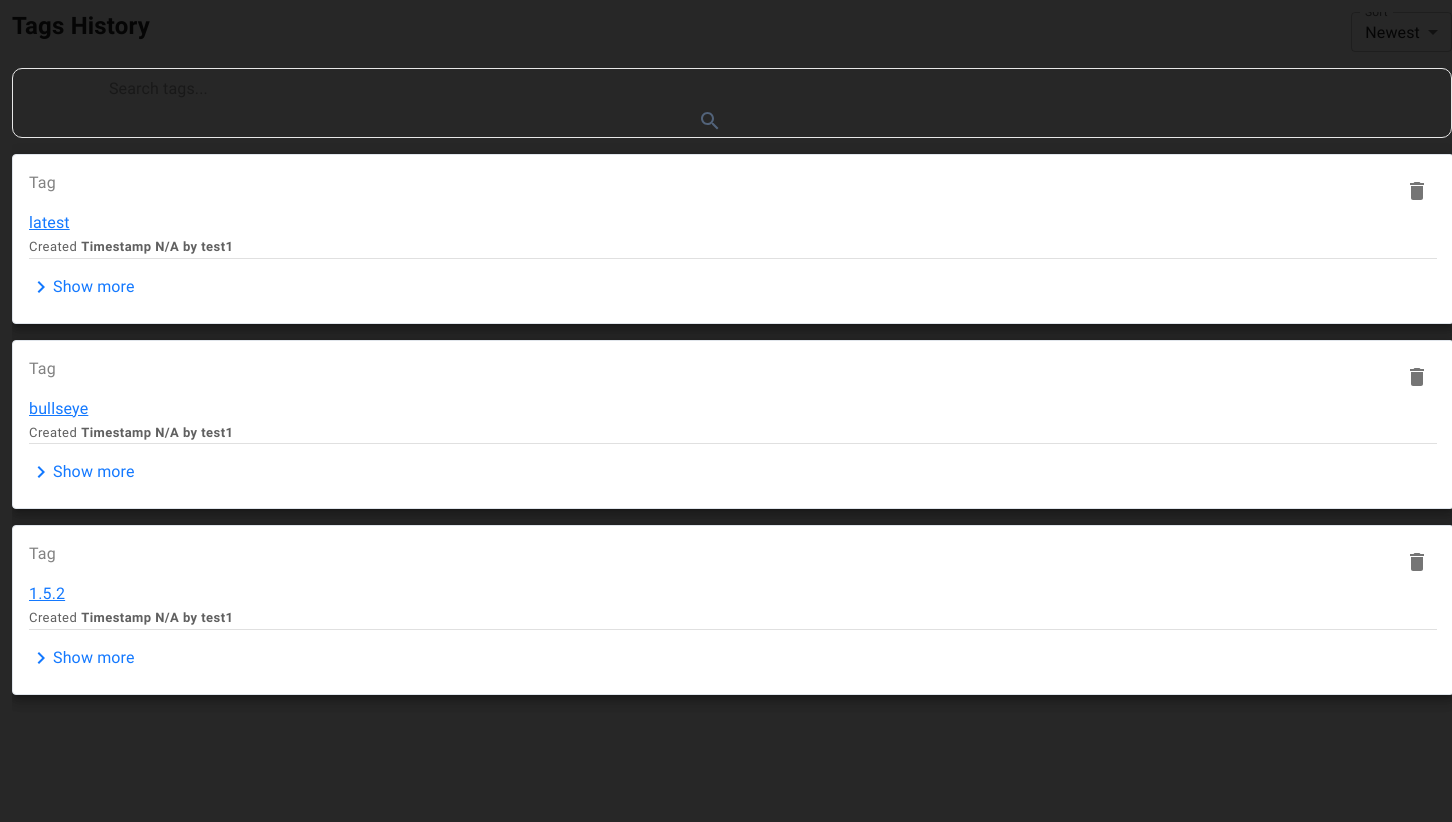
Test: Tags component › should open and close details dropdown for tags
Step 1. Click the text "Show more" below "latest" → x=94, y=286, box [53,277,135,296]
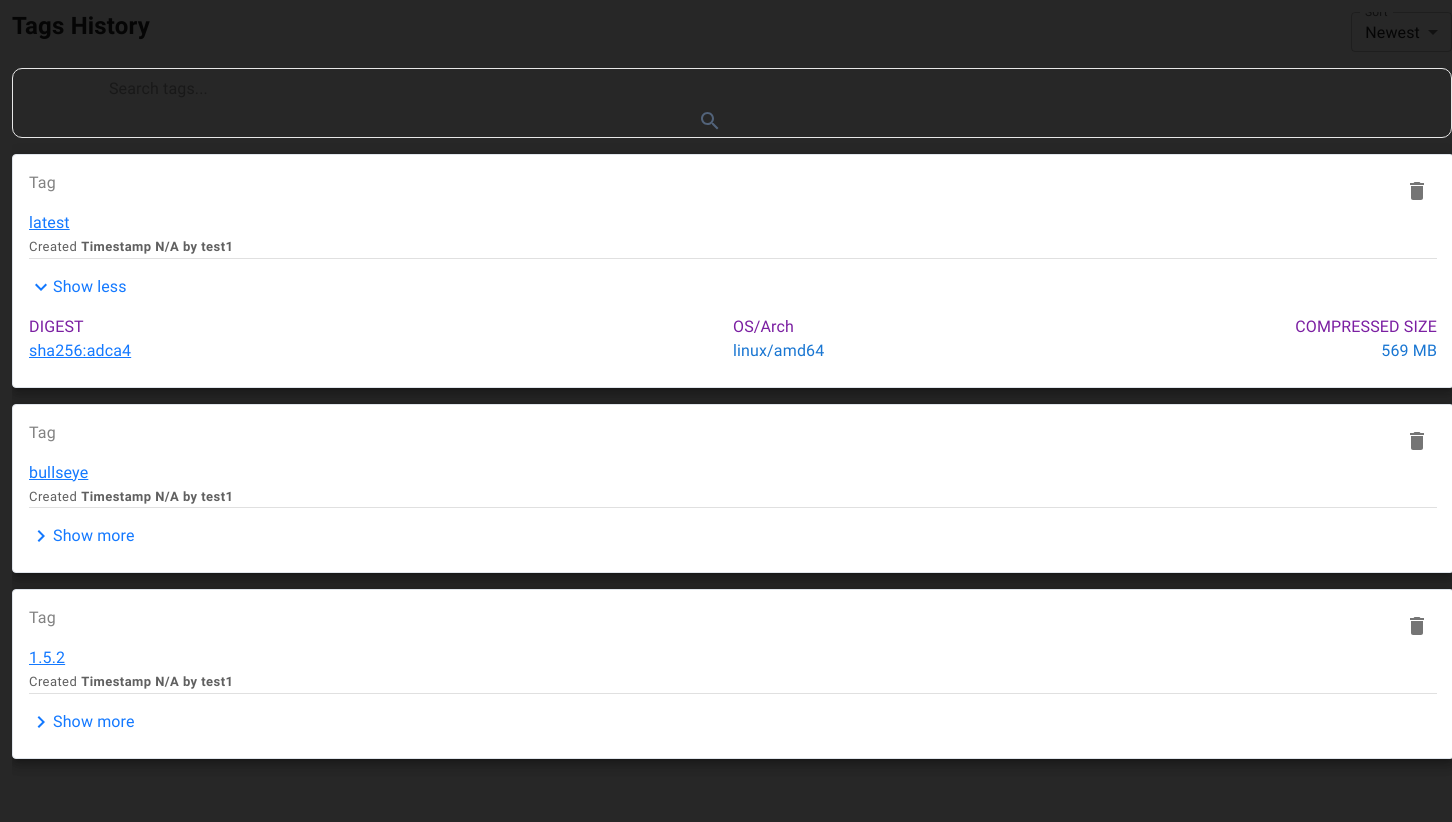
Expected: the text "OS/Arch" is shown, [733,317,794,336]
Step 2. Click the text "Show less" → x=90, y=286, box [53,277,127,296]
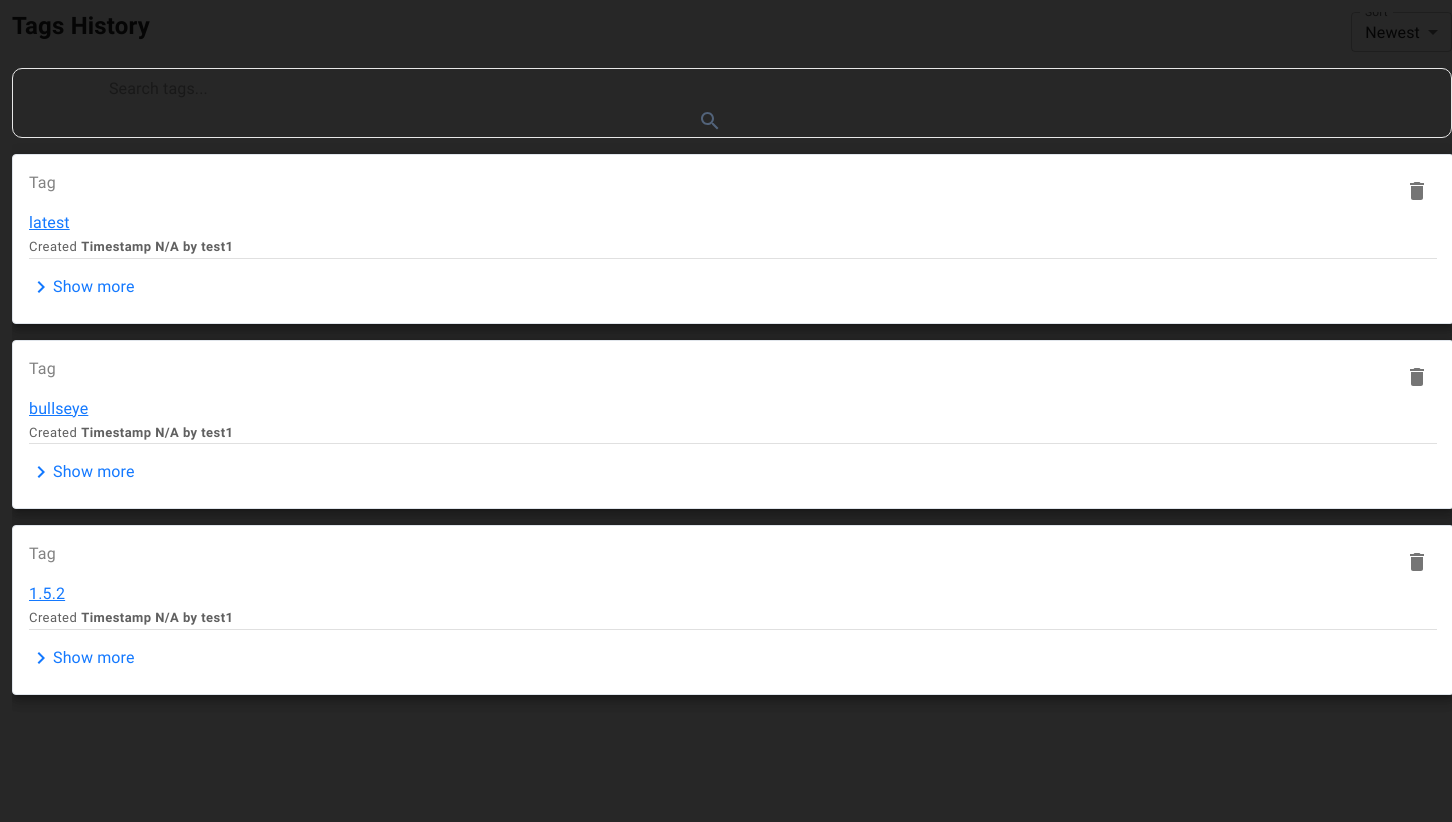
Expected: the text "OS/Arch" is gone
